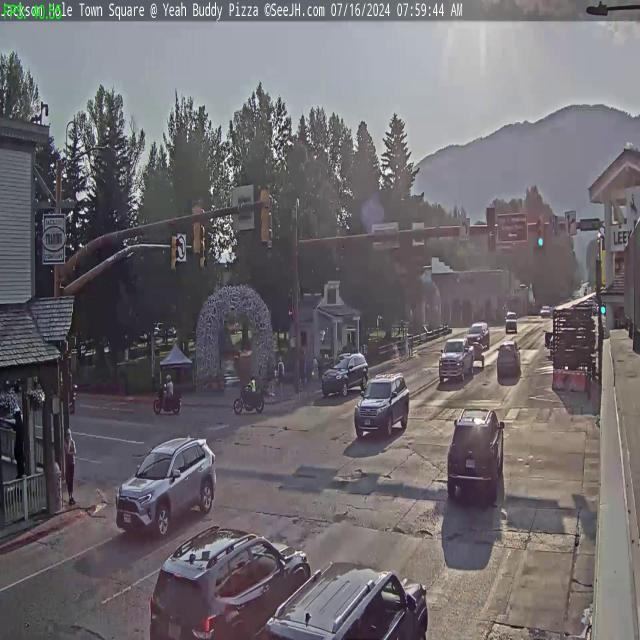motorcycle: (153, 374, 181, 418), (232, 383, 264, 416)
person: (162, 372, 175, 408), (278, 354, 284, 401), (249, 371, 257, 403), (272, 362, 278, 396)
pickup: (438, 336, 476, 384)
suv: (147, 520, 316, 640), (265, 558, 431, 640), (114, 434, 216, 534), (446, 406, 506, 504), (352, 372, 409, 440), (322, 350, 368, 400), (496, 339, 520, 379), (467, 320, 492, 350), (504, 310, 518, 332)
traffic light: (258, 184, 272, 246), (190, 200, 204, 256), (486, 206, 497, 251), (170, 235, 180, 272), (536, 214, 544, 249)
